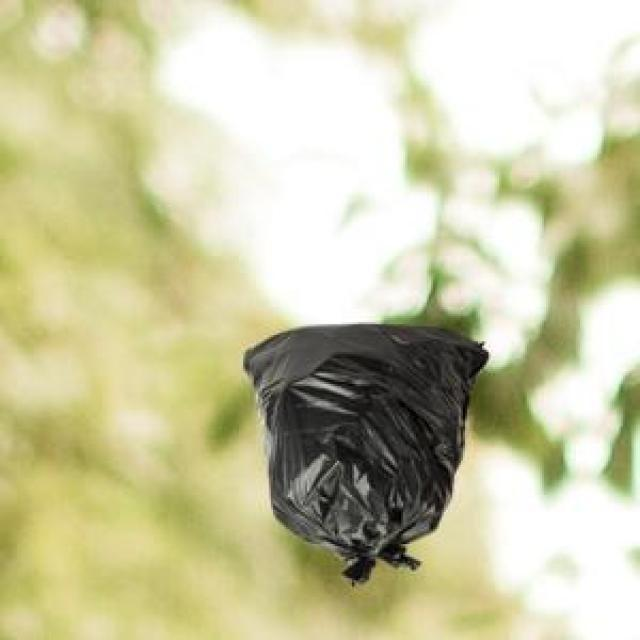Vinyl: (244, 325, 489, 583)
